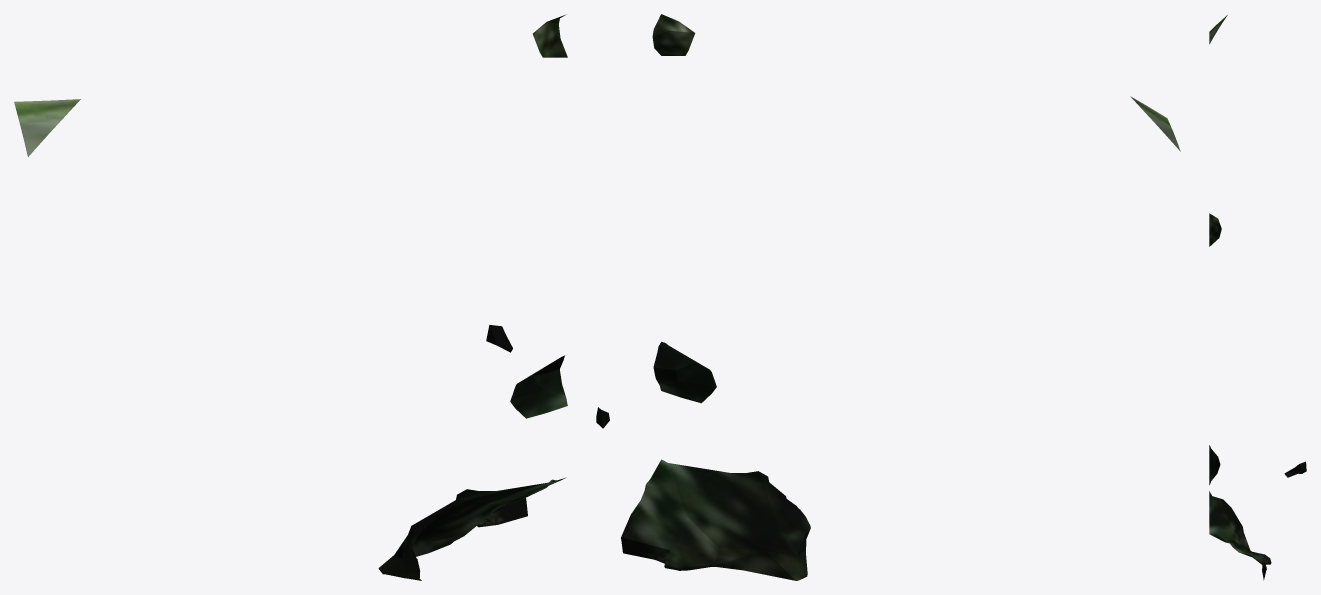
The picture shows the model from 3 angles, left to right: view 1: azimuth 30°, elevation 25°; view 2: azimuth 150°, elevation 25°; view 3: azimuth 270°, elevation 25°; orthographic projection. The views are drawn at different scales.
Size of the model in its own units: 3.35 by 3.35 by 0.7641.
1 material, 1 textured.
